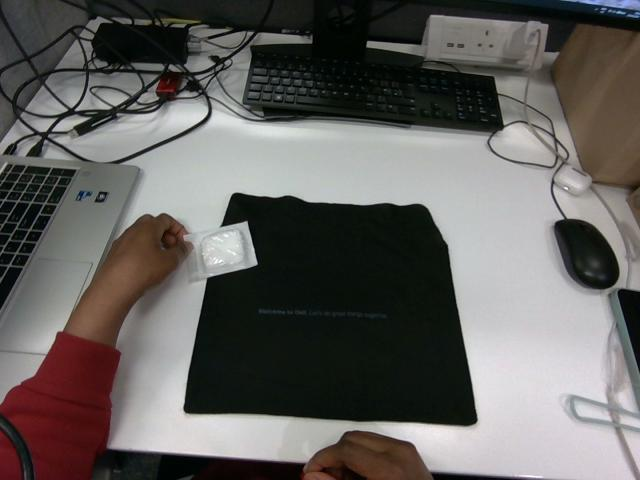gauze: (184, 222, 257, 281)
